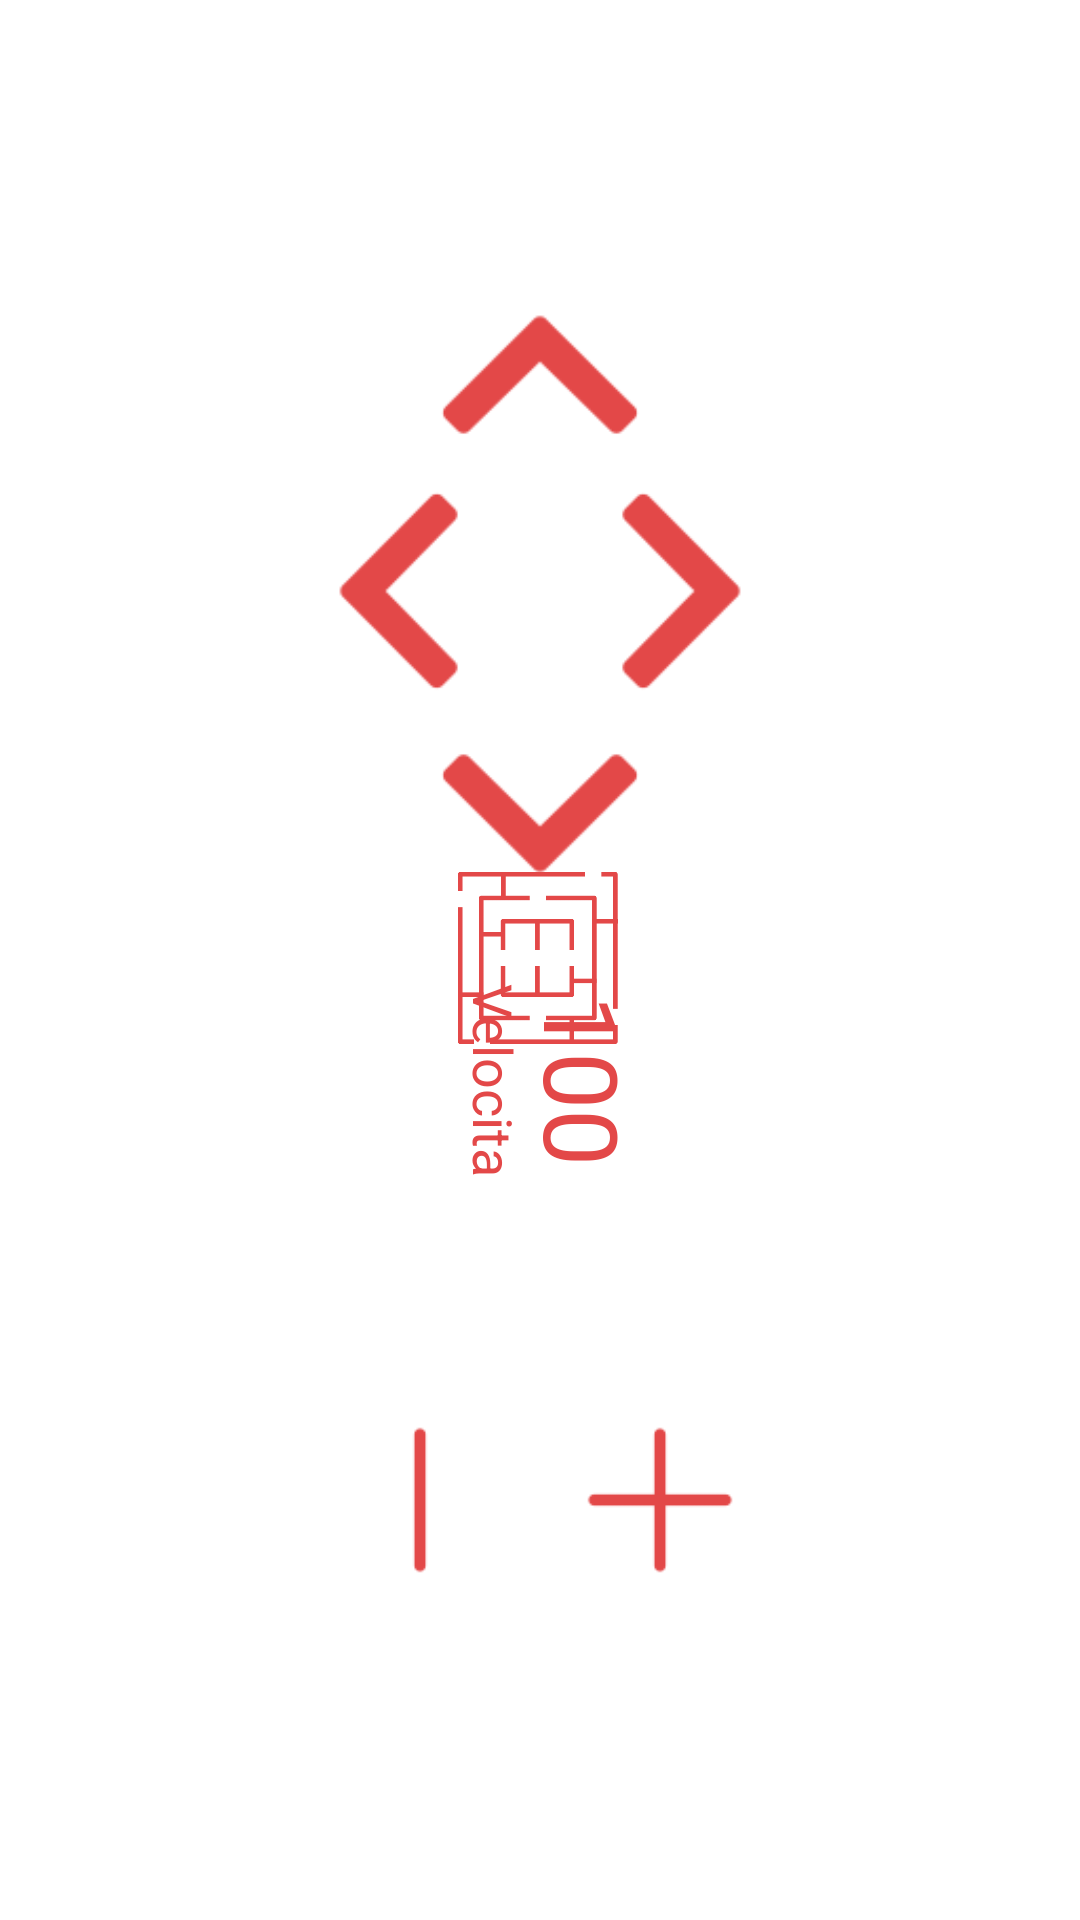

Screen size 1080px×1920px. Icon name, then its box in pixels as bbox(x1, y1, x2, y2):
plus: bbox(588, 1428, 732, 1572)
